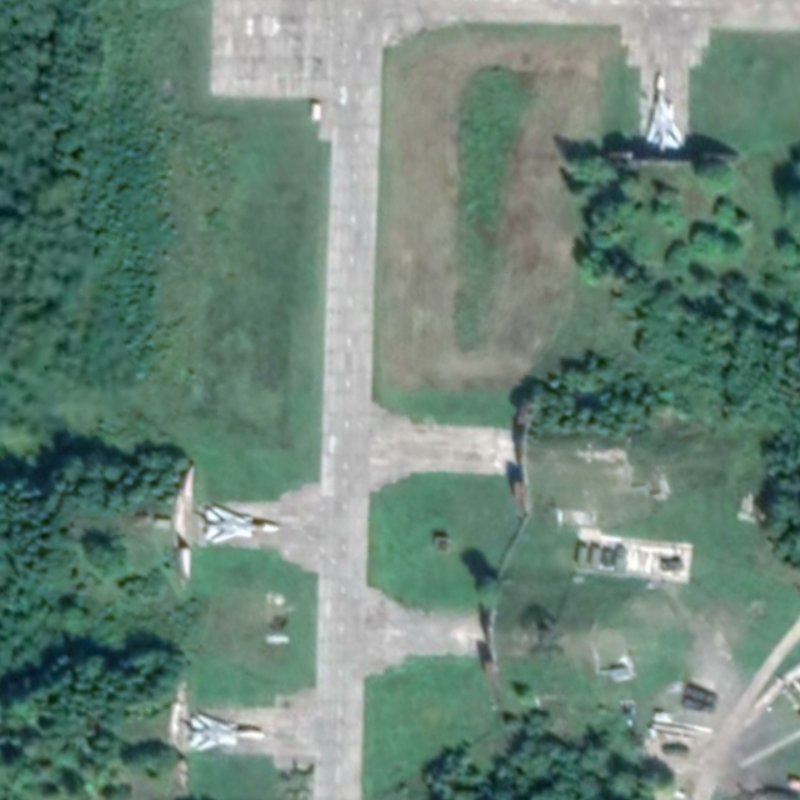A20: (642, 71, 688, 154), (187, 712, 268, 754), (202, 504, 282, 546)
